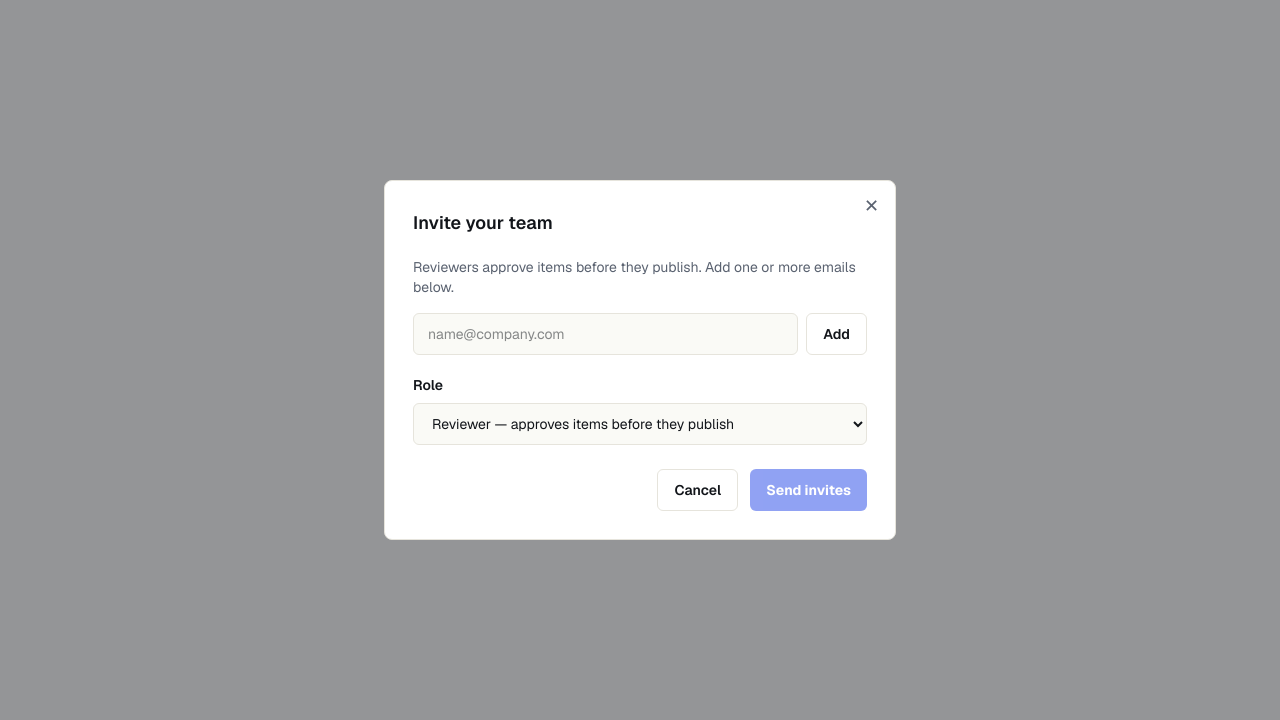
Test: InviteModal › adds an email as a chip and enables sending, then posts one request per email
The width and height of the screenshot is (1280, 720).
Type "a@example.com" into the field with placeholder "name@company.com" at [606, 334], box [413,313,798,355]
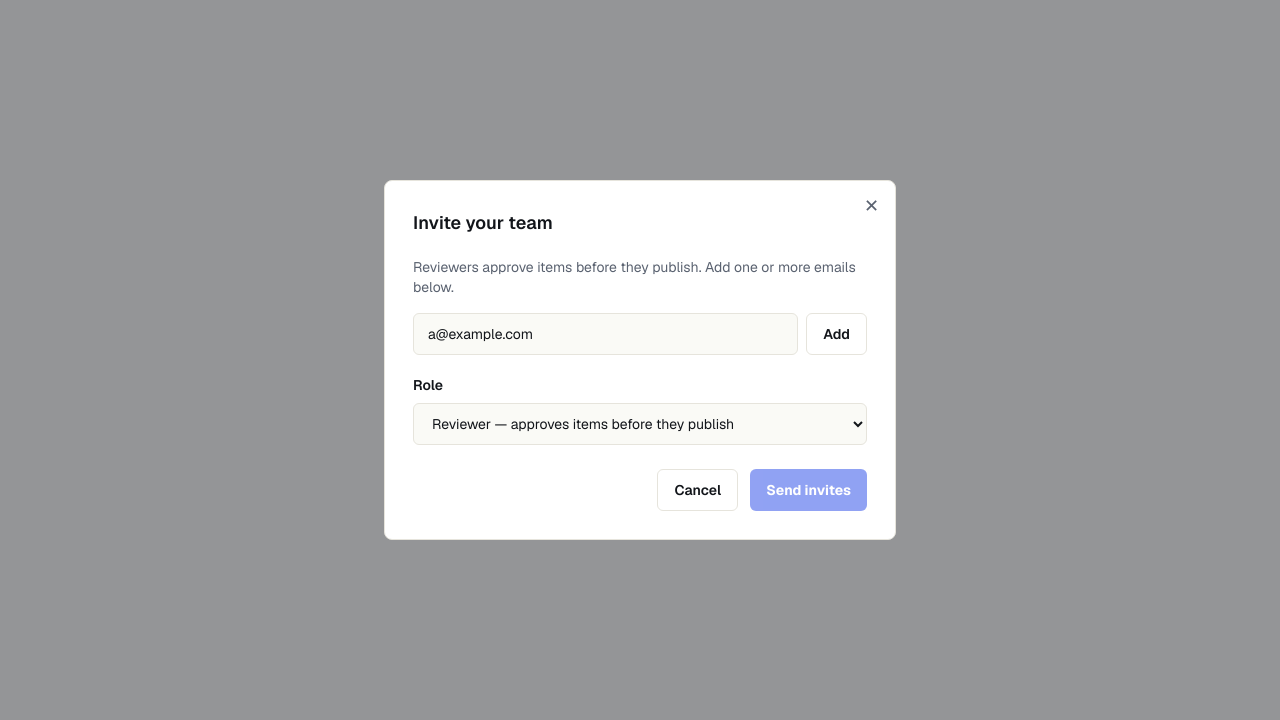
Click the button "Add" at [837, 334], box [806,313,867,355]
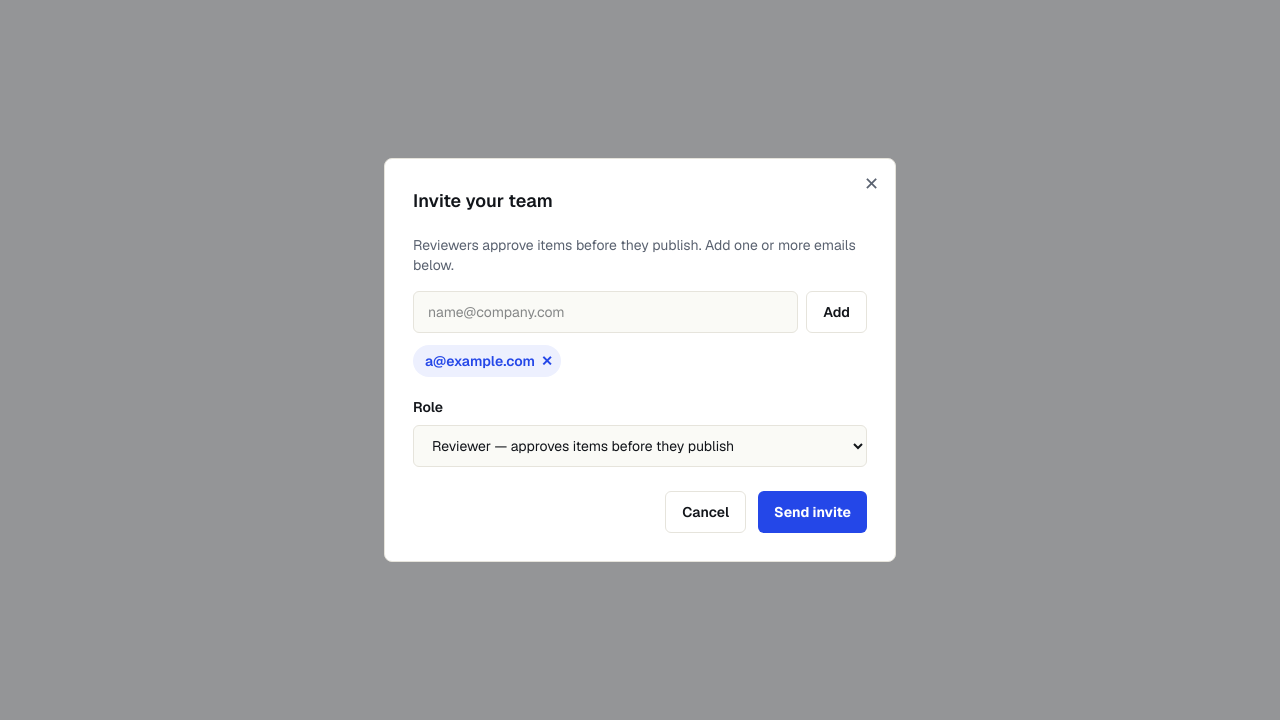
Check: the text "a@example.com" is shown, box [425,352,535,370]
Check: the button "Send invite" is enabled
Click the button "Send invite" at [812, 512], box [758,491,867,533]
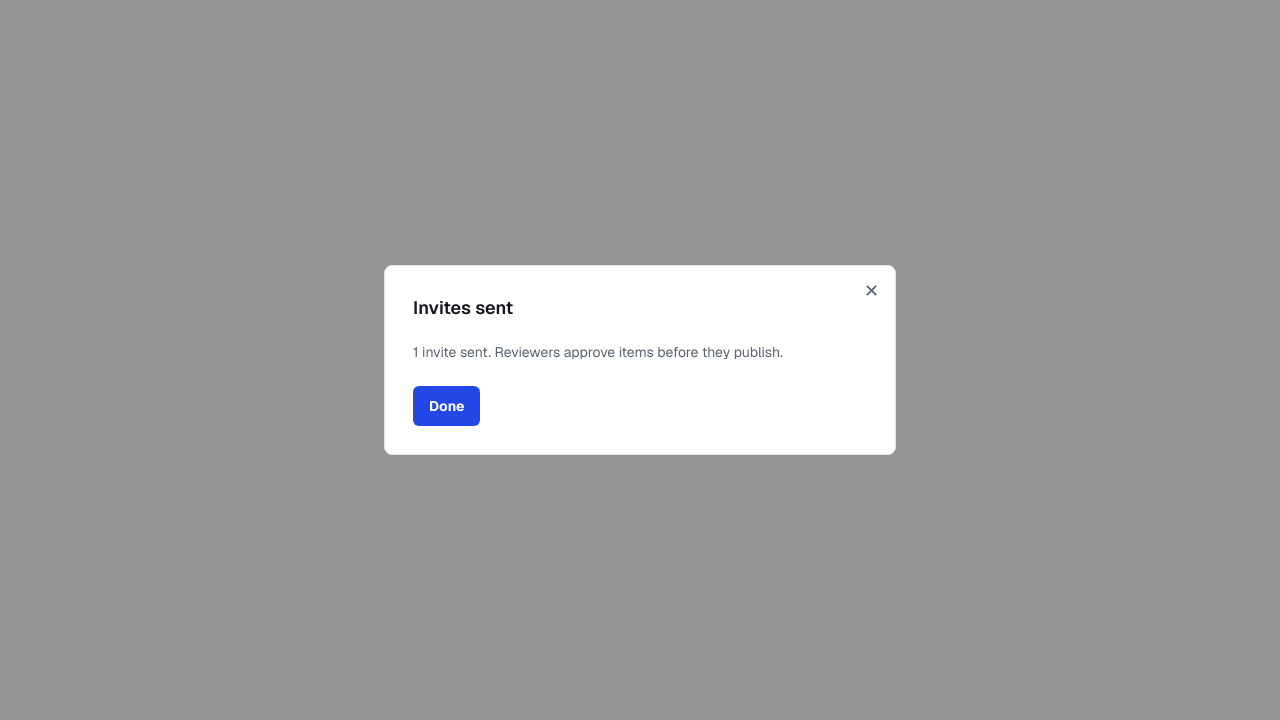
Check: the heading "Invites sent" is shown, box [413,296,513,319]
